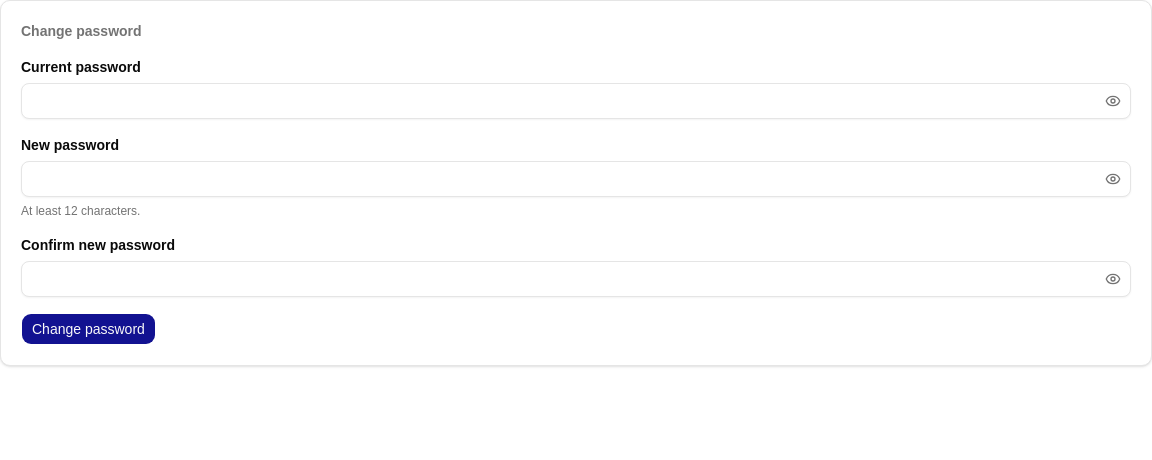
Test: ChangePasswordForm › changed_others_remain → cleared, a status (not an error) and an inline Sign out other devices button
In the password field labelled "Current password": (576, 101) [21,83,1131,119], type "current-password-1"
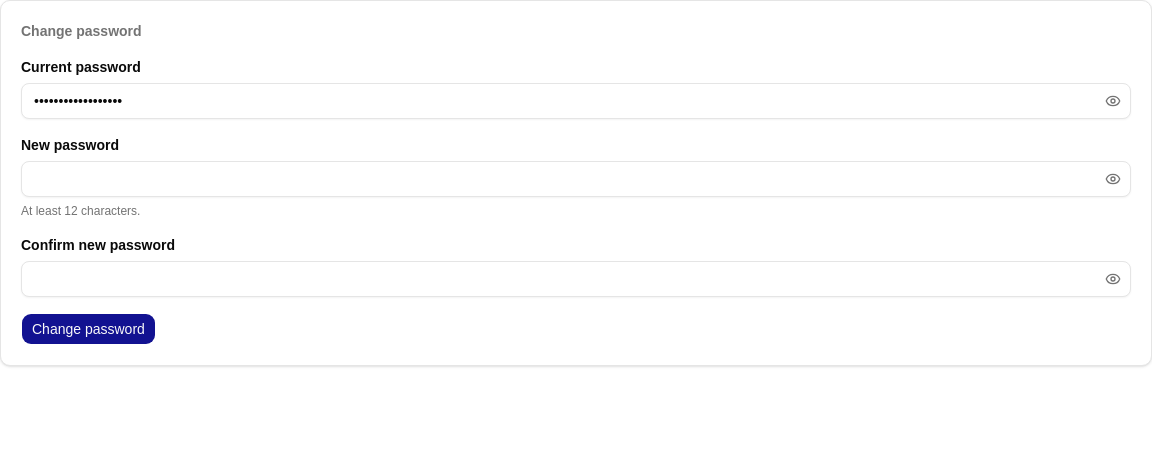
In the password field labelled "New password": (576, 179) [21,161,1131,197], type "brand-new-password"
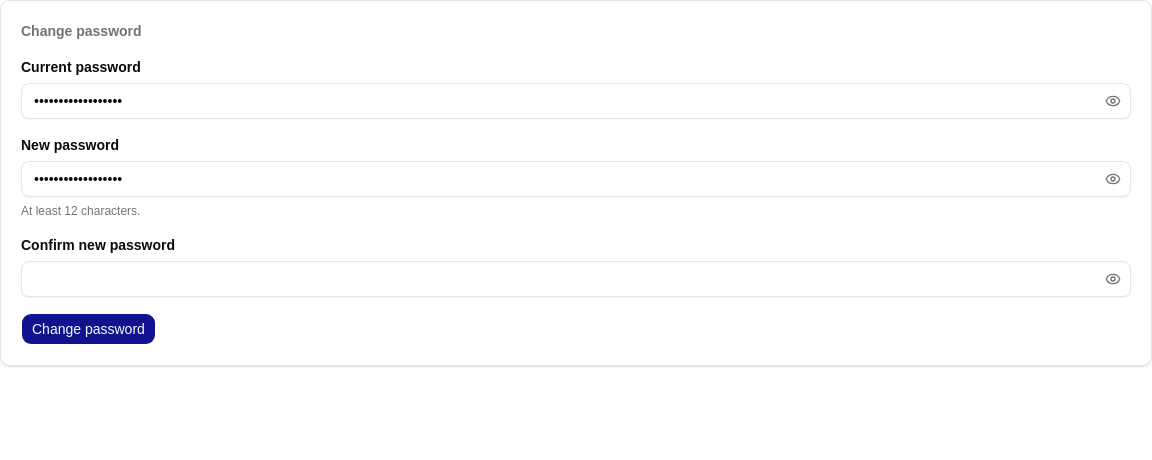
In the password field labelled "Confirm new password": (576, 279) [21,261,1131,297], type "brand-new-password"
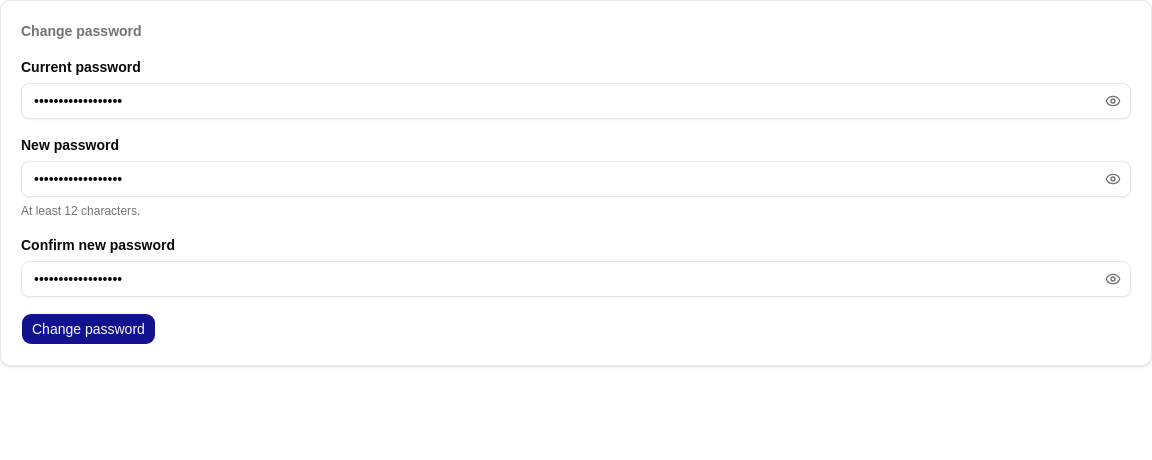
Click the button "Change password": (88, 329) [21,313,156,345]
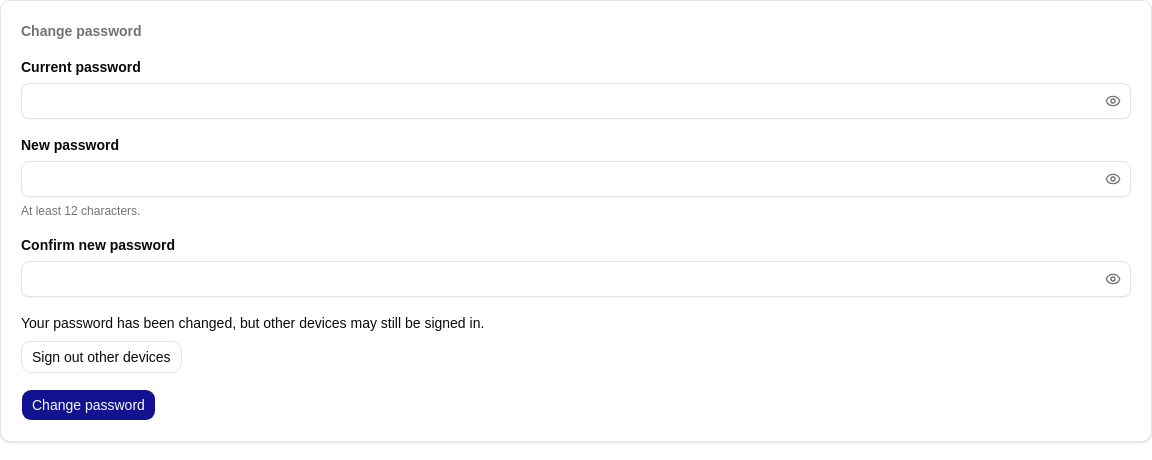
Expected: the message reads "Your password has been changed, but other devices may still be signed in.", [21,315,484,331]
Expected: the button "Sign out other devices" is shown, [21,341,182,373]
Expected: the password field labelled "Current password" is empty, [21,83,1131,119]
